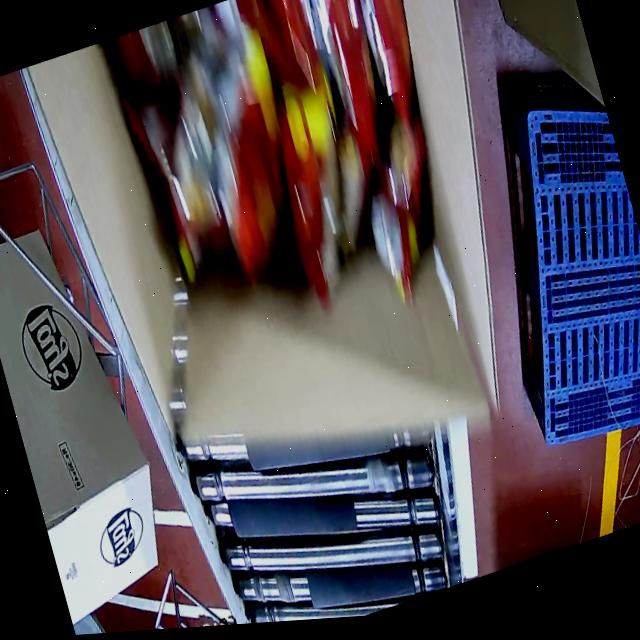MASALA: (112, 0, 478, 361)
